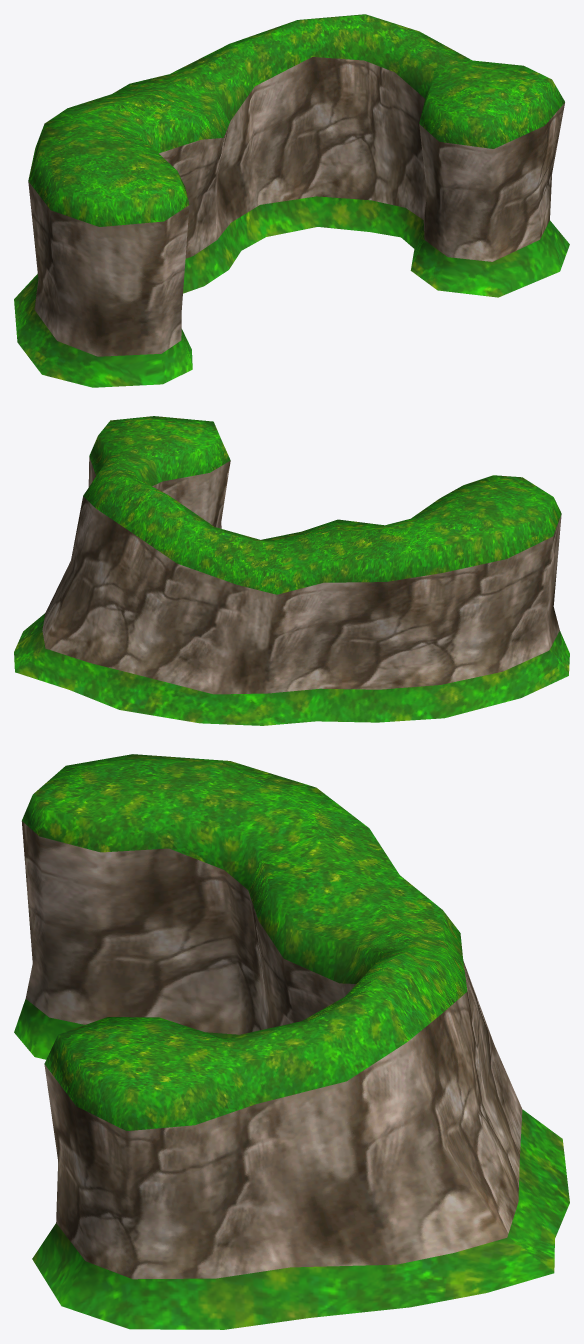
File: EKH_ENTRANCE_PS_EN_WALKWAY_4635__GX.fbx
The picture shows the model from 3 angles, top to bottom: view 1: azimuth 30°, elevation 25°; view 2: azimuth 150°, elevation 25°; view 3: azimuth 270°, elevation 25°; orthographic projection. The views are drawn at different scales.
Visible parts, largest first — view 1: EKH_ENTRANCE_PS_EN_WALKWAY_4635__GX; view 2: EKH_ENTRANCE_PS_EN_WALKWAY_4635__GX; view 3: EKH_ENTRANCE_PS_EN_WALKWAY_4635__GX.
Part boxes in pixels (x1,y1,x2,y2): EKH_ENTRANCE_PS_EN_WALKWAY_4635__GX: (14,14,569,387); EKH_ENTRANCE_PS_EN_WALKWAY_4635__GX: (14,416,569,725); EKH_ENTRANCE_PS_EN_WALKWAY_4635__GX: (14,754,569,1329).
Bounding box in the file's own units: 99333 × 34868 × 67100.
Materials: 2 (2 with a texture image).
